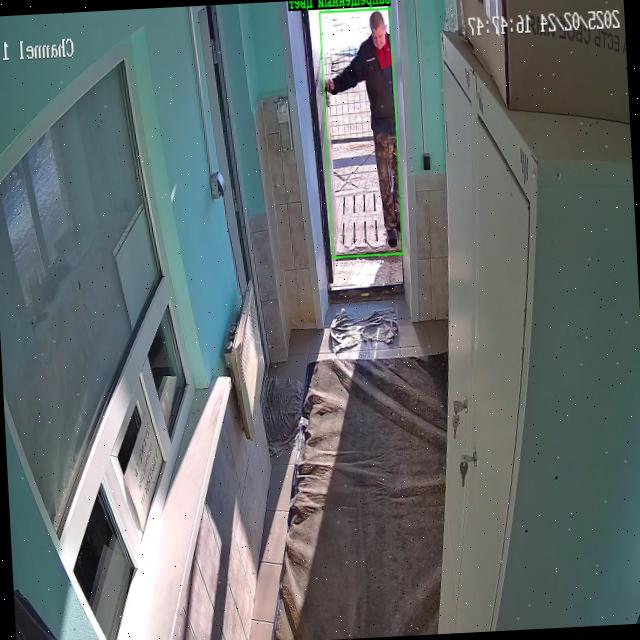Person: (325, 11, 401, 250)
